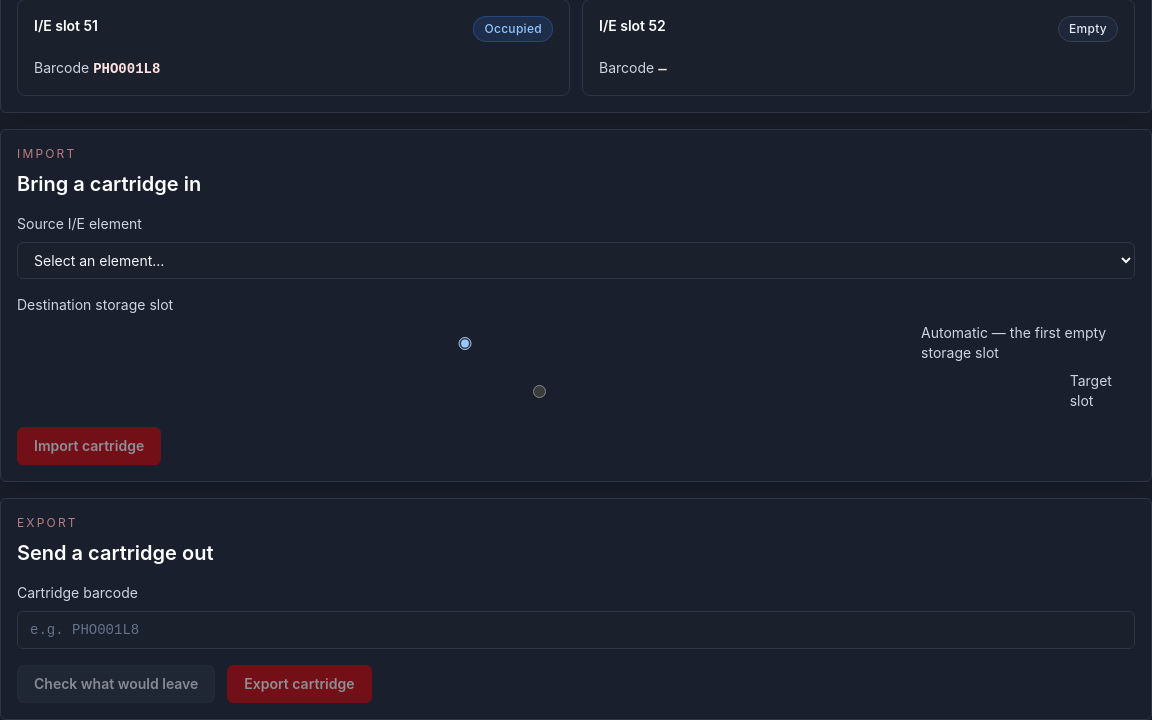
Test: Mailslot › shows what leaves with the cartridge inside the force dialog
This screenshot has width=1152, height=720.
(page scrolled)
Step 1. Type "ARC001L8" into the field labelled "Cartridge barcode" → x=576, y=630, box [17,611,1135,649]
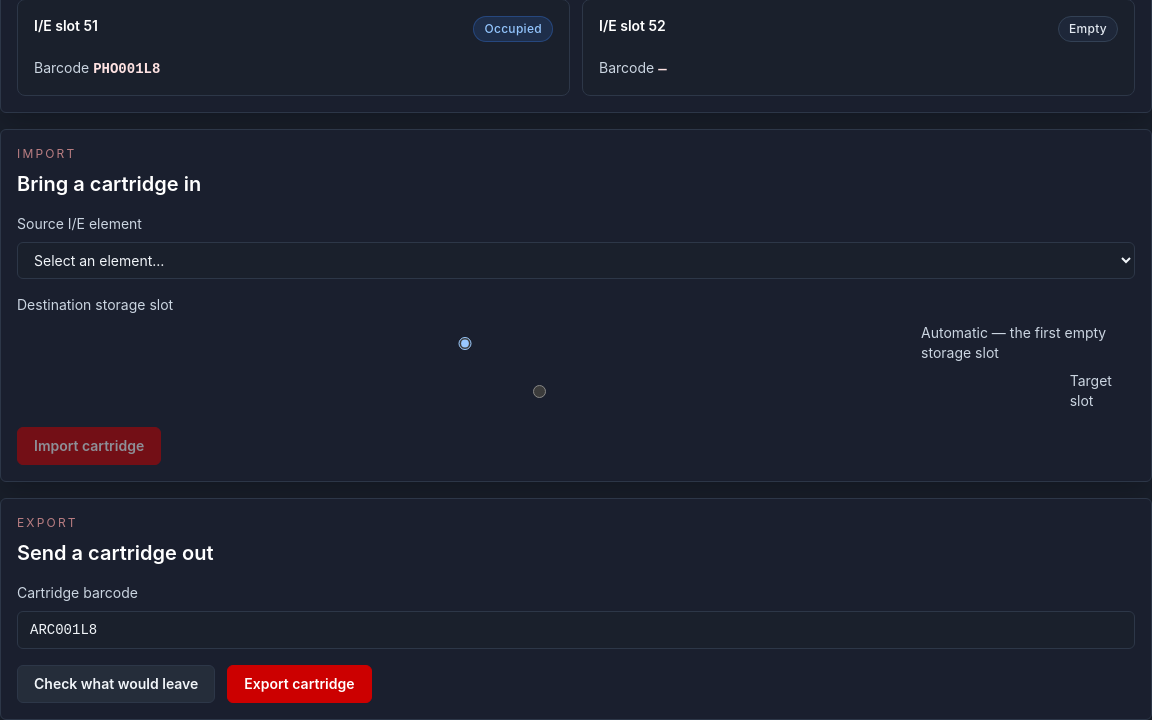
Step 2. Click the button "Export cartridge" → x=299, y=684, box [227,665,372,703]
(page scrolled)
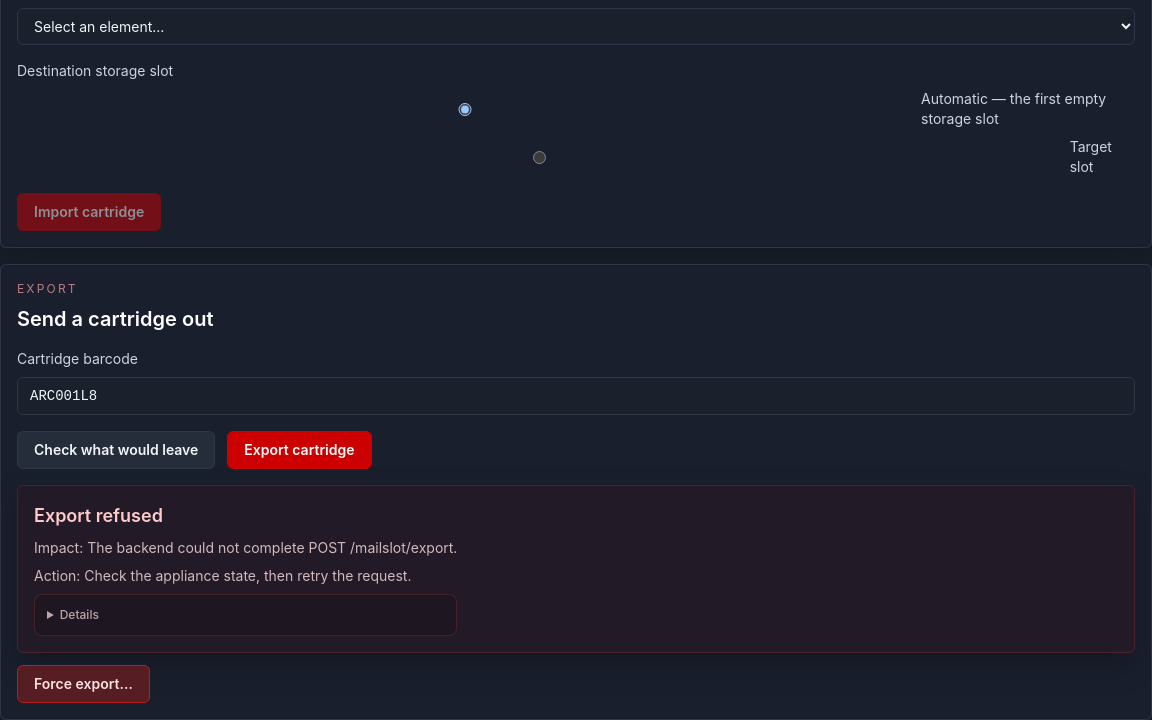
Result: the button "Force export…" is shown
Step 3. Click the button "Force export…" → x=83, y=684, box [17,665,150,703]
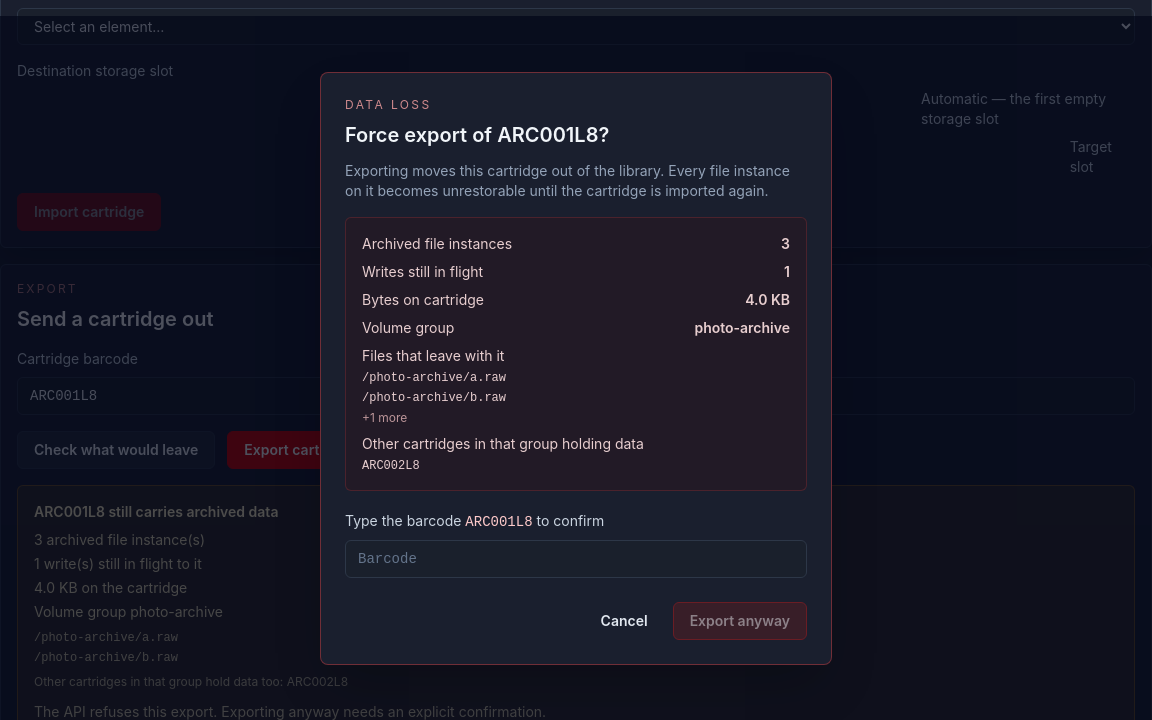
Result: the heading "Force export of ARC001L8?" is shown at [345,122,609,146]
Result: the text "Files that leave with it" is shown at [362,346,504,364]
Result: the text "Archived file instances" is shown at [362,234,512,254]
